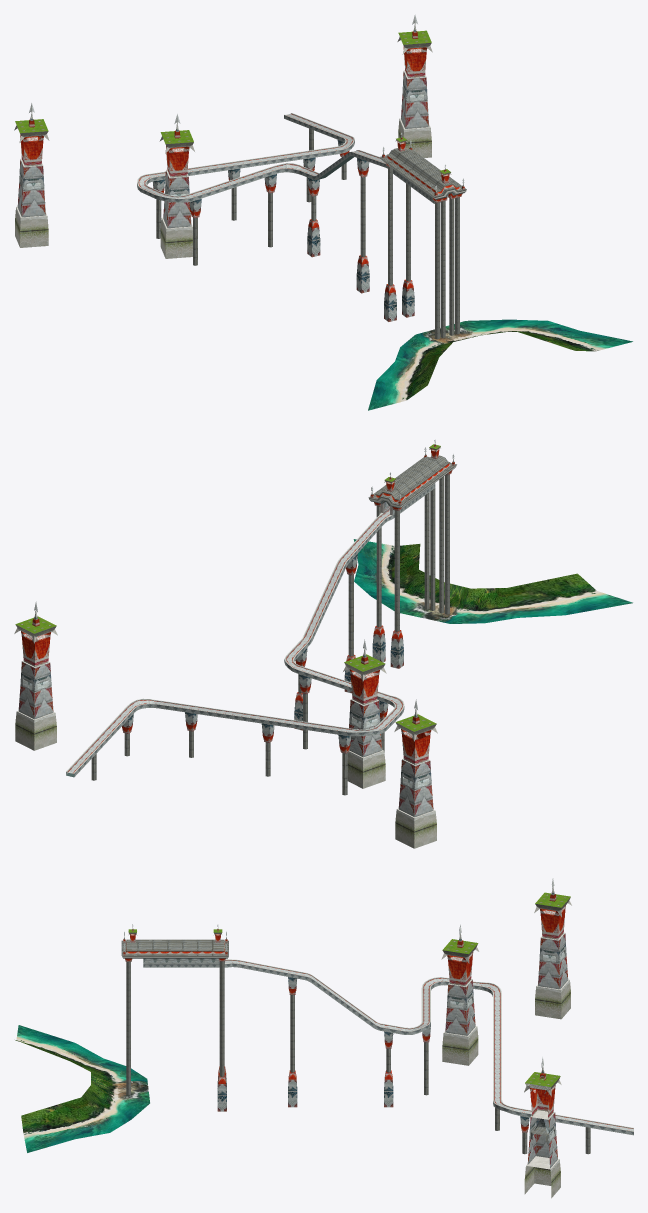
Rendered from Chunk6.obj.
The picture shows the model from 3 angles, top to bottom: view 1: azimuth 30°, elevation 25°; view 2: azimuth 150°, elevation 25°; view 3: azimuth 270°, elevation 25°; orthographic projection. The views are drawn at different scales.
Bounding box in the file's own units: 6575 × 2848 × 8809.
14 materials, 14 textured.
